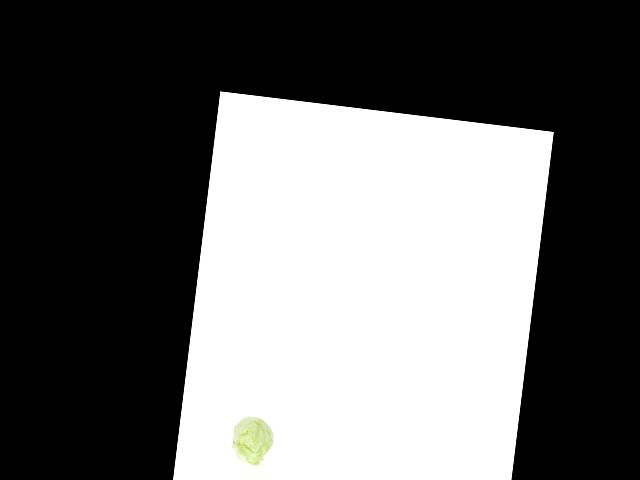lettuce: (229, 410, 280, 473)
